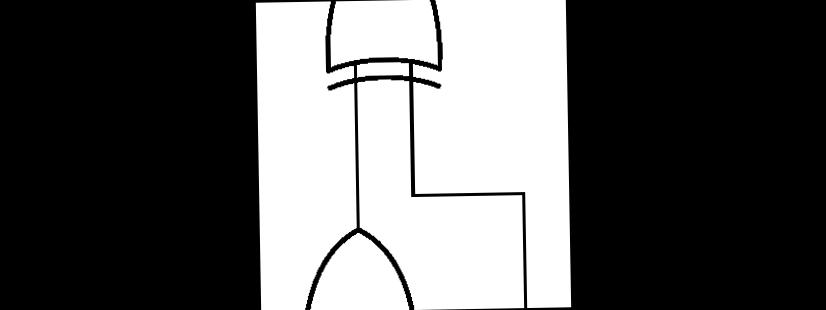xor: (314, 0, 449, 94), (293, 220, 423, 310)
